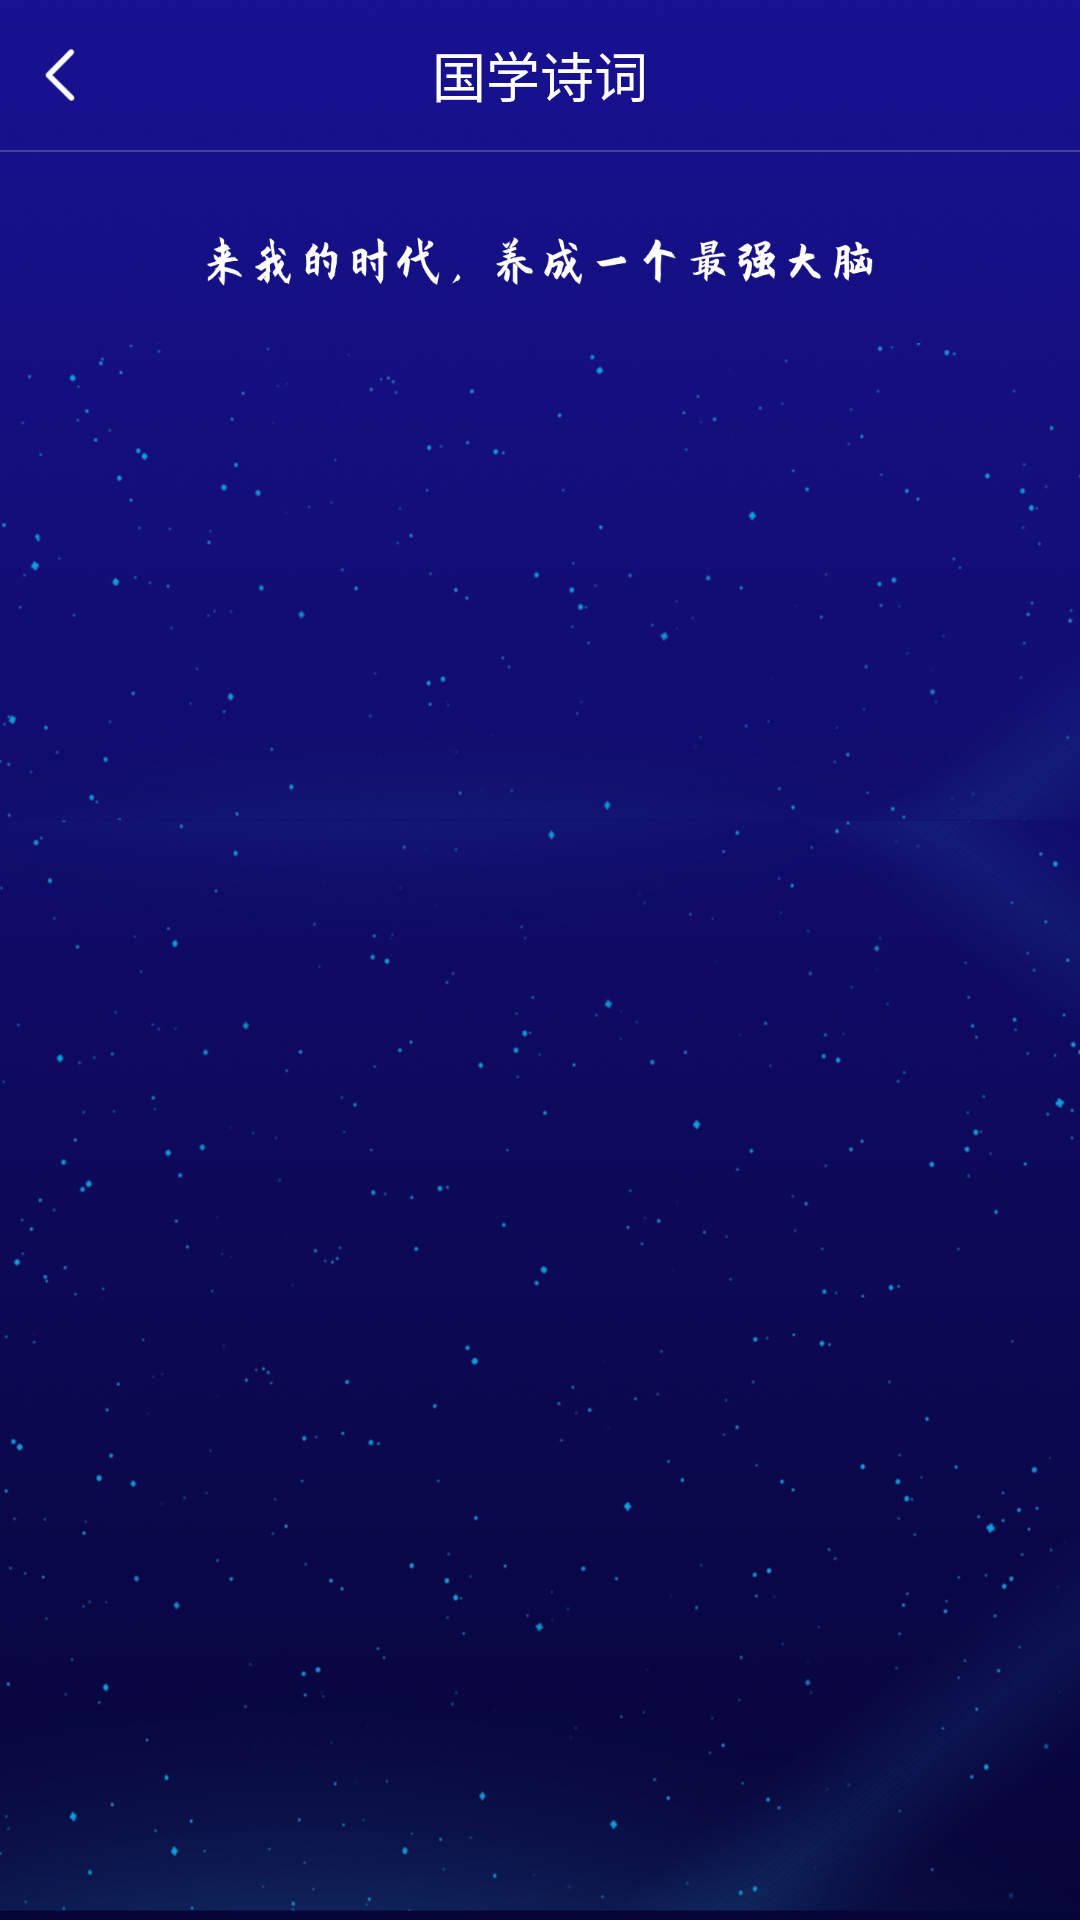

Icon bounding boxes for this 1080*1920 phone screenshot, format (x1, y1, x2, y2):
back: (45, 49, 75, 101)
